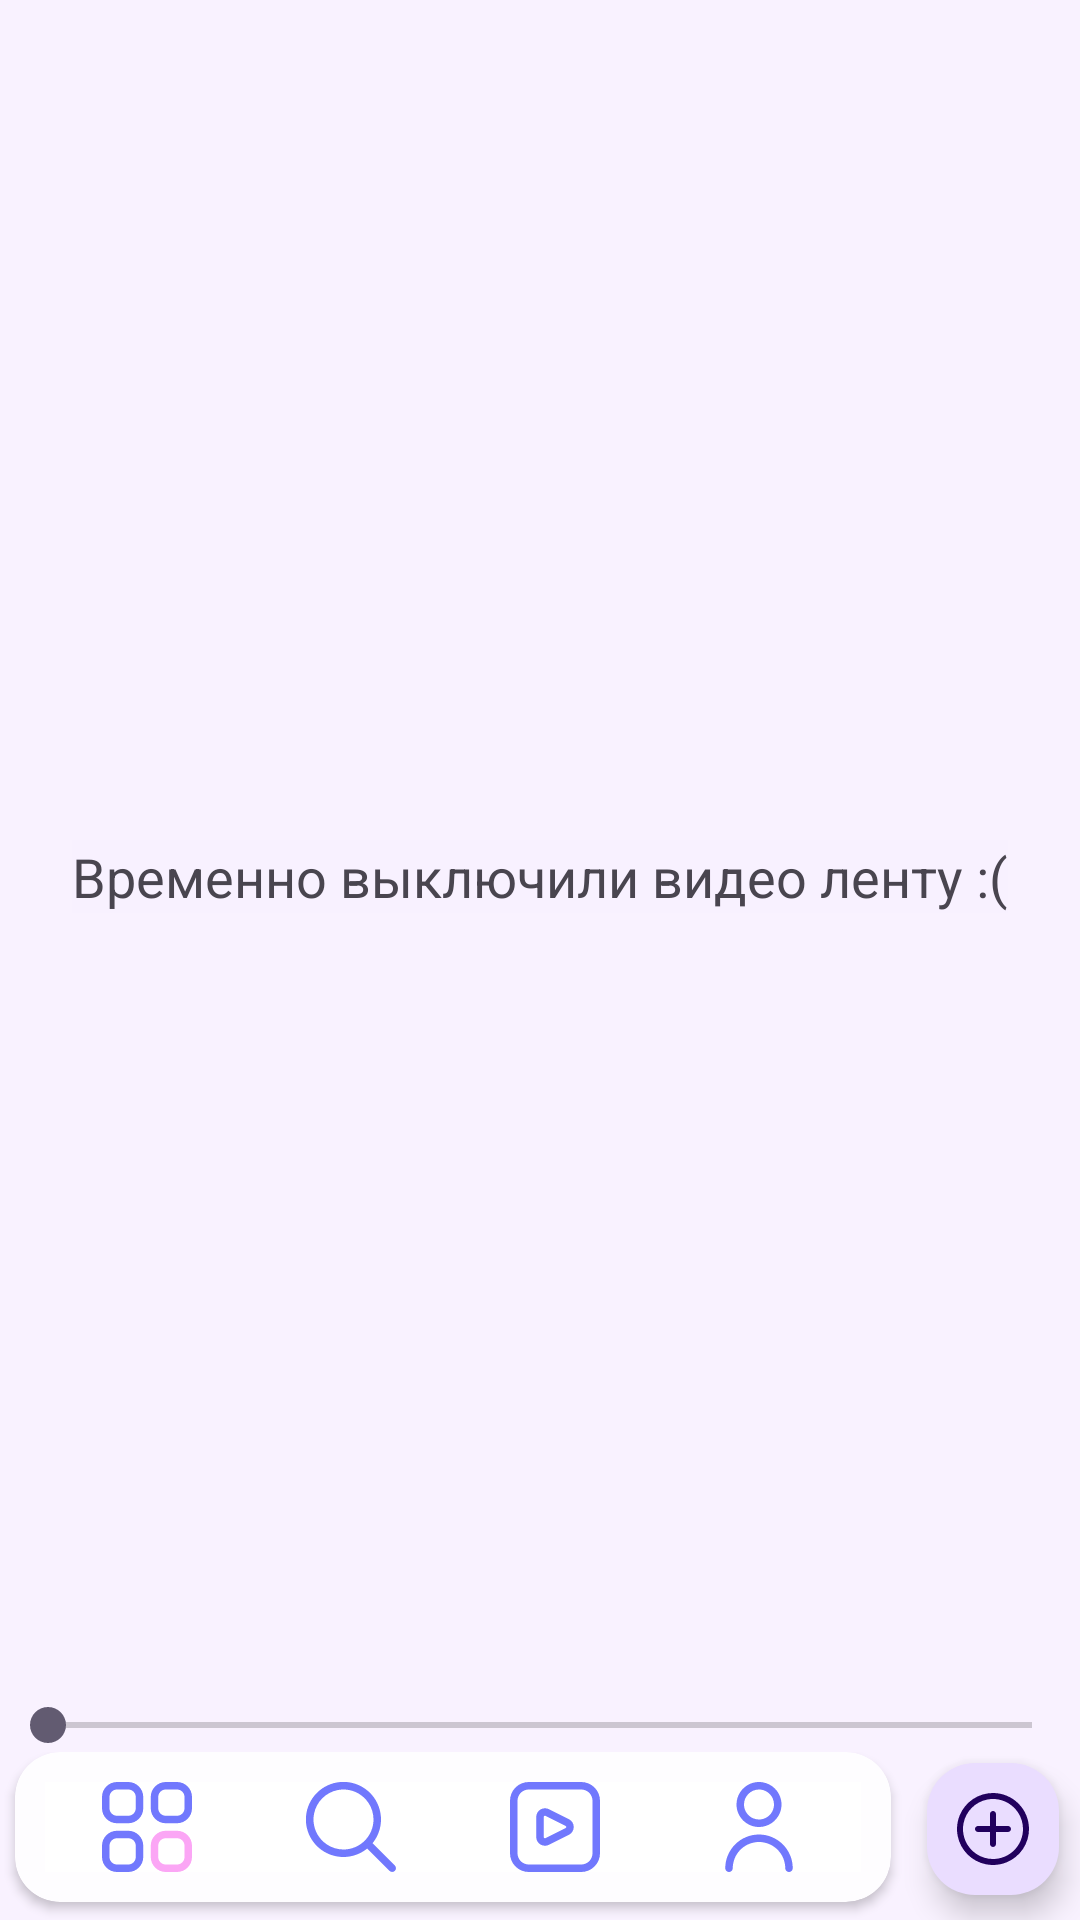

Named icons in this screenshot (1080×1920) and their bounding boxes, (x1, y1, x2, y2):
Account: (725, 1782, 793, 1872)
Add post: (922, 1762, 1065, 1901)
Home screen: (102, 1782, 192, 1872)
Search screen: (306, 1782, 396, 1872)
Videos feed: (510, 1782, 600, 1872)
